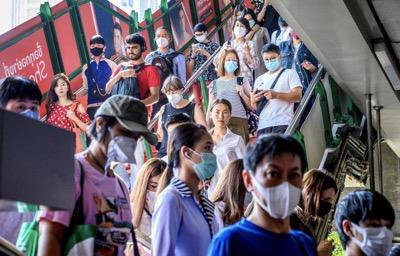with_mask: (252, 161, 304, 220), (350, 215, 393, 256), (102, 124, 143, 165), (186, 137, 217, 179), (308, 190, 336, 219), (262, 53, 280, 72), (166, 88, 181, 105), (223, 55, 237, 73), (155, 32, 170, 48), (232, 22, 247, 37), (90, 43, 104, 57), (194, 31, 206, 42)
without_mask: (211, 108, 230, 127), (126, 44, 141, 60), (53, 81, 68, 96)
